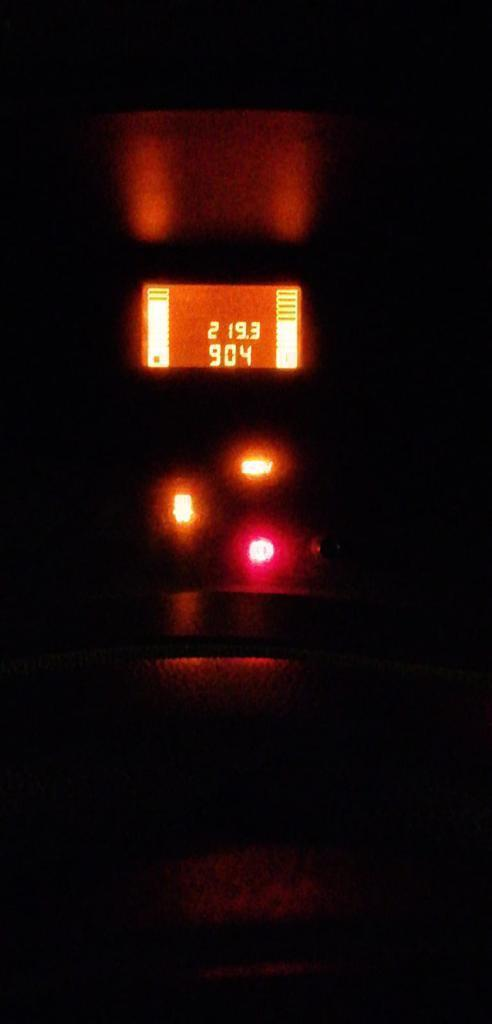,: (245, 334, 249, 339)
0: (223, 343, 237, 367)
1: (227, 322, 233, 339)
2: (206, 320, 219, 339)
3: (249, 321, 261, 339)
4: (239, 344, 252, 367)
9: (208, 343, 221, 367), (234, 320, 246, 340)
odometer: (137, 281, 304, 369)
